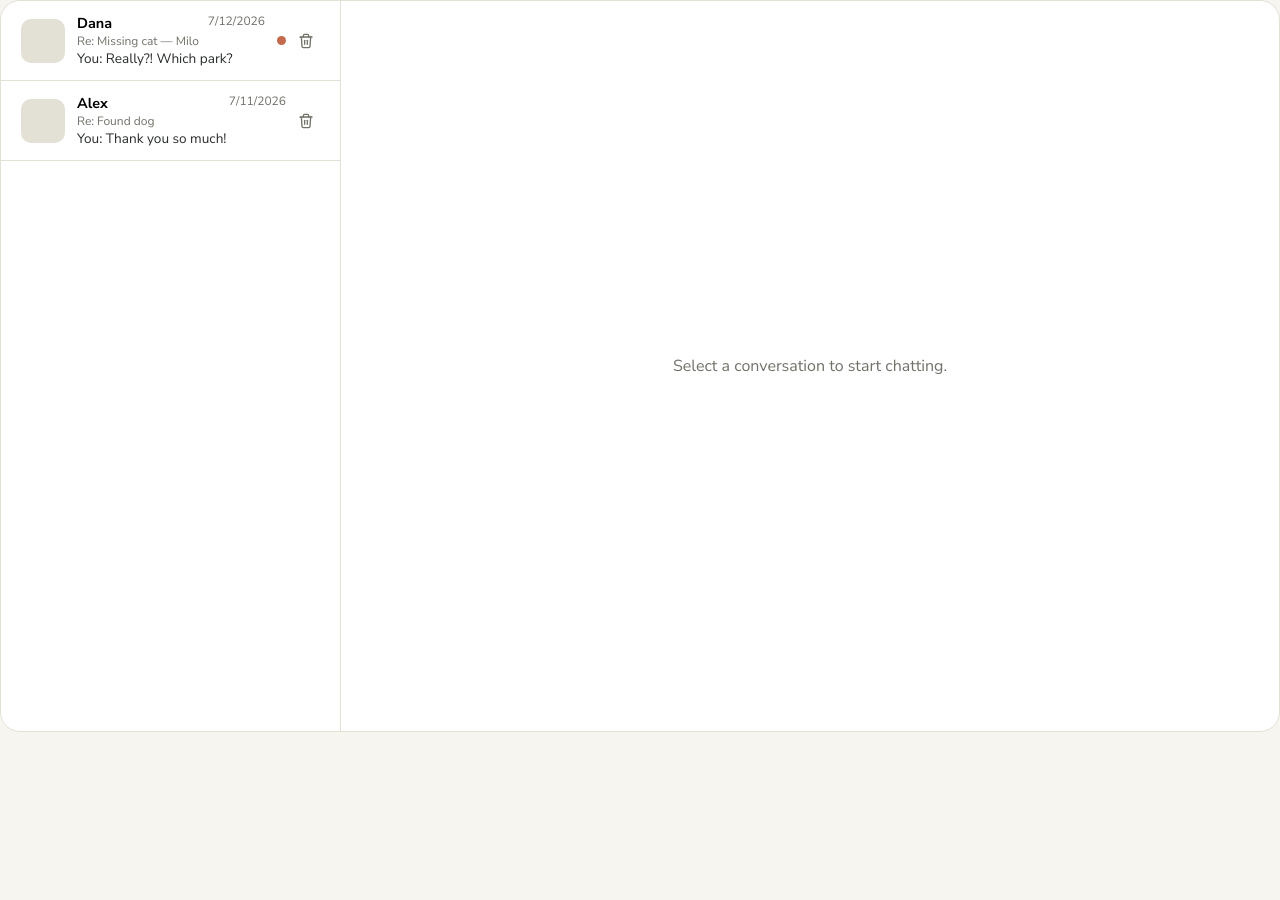
Test case: selecting a conversation opens its thread
Click the button "Dana": (154, 40) [21,13,286,68]
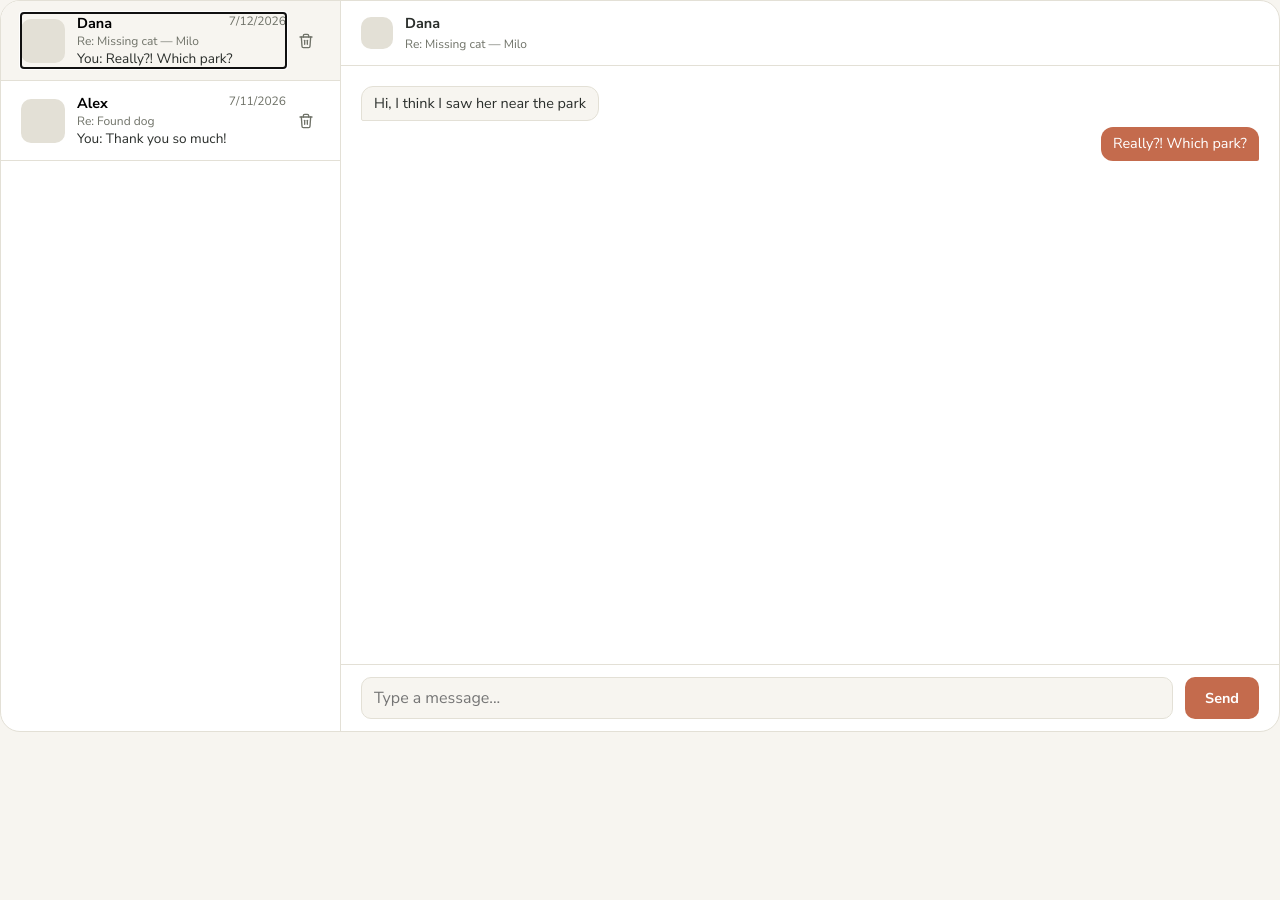
Now the text "Hi, I think I saw her near the park" is shown, box [361,86,599,121]
